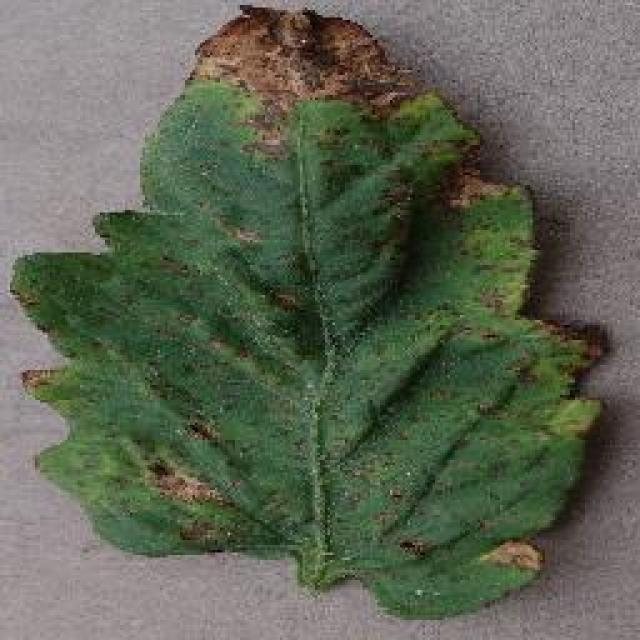bacterial spot: (2, 7, 610, 618)
